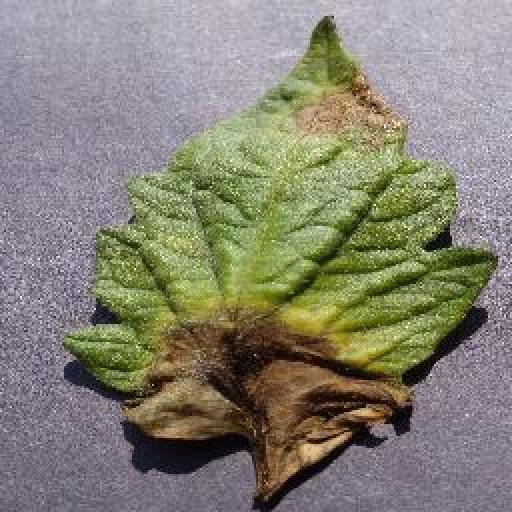Late Blight: (61, 13, 503, 511)
